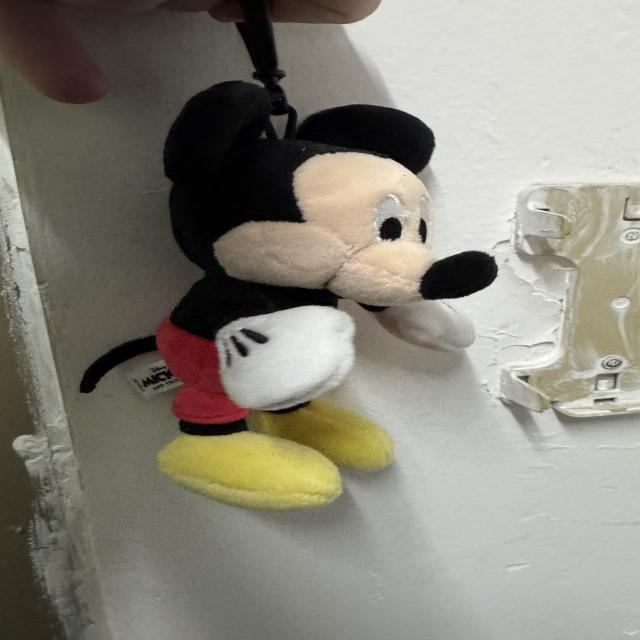mickey: (156, 82, 496, 509)
